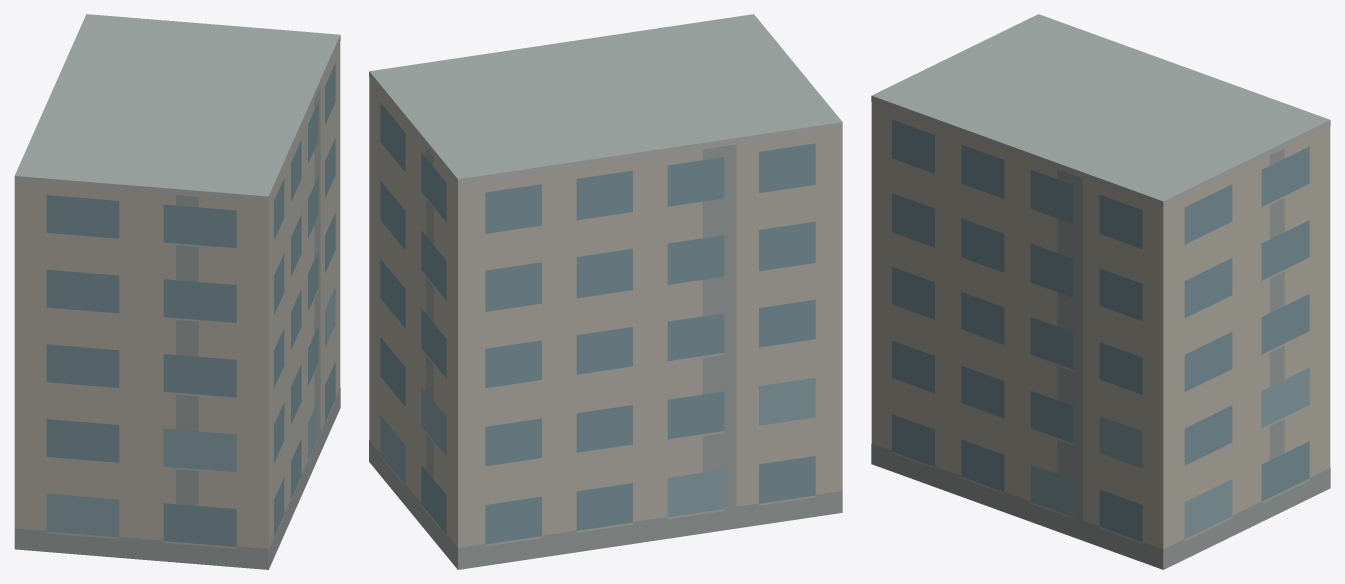
File: survey-upis-32610474.glb
The picture shows the model from 3 angles, left to right: view 1: azimuth 30°, elevation 25°; view 2: azimuth 150°, elevation 25°; view 3: azimuth 270°, elevation 25°; orthographic projection. The views are drawn at different scales.
Visible parts, largest first — view 1: survey-upis-32610474.tmp; view 2: survey-upis-32610474.tmp; view 3: survey-upis-32610474.tmp.
Boxes of the visible parts, bbox=[...] form: survey-upis-32610474.tmp: bbox=[14, 14, 340, 569]; survey-upis-32610474.tmp: bbox=[369, 14, 842, 569]; survey-upis-32610474.tmp: bbox=[871, 14, 1330, 569].
Bounding box in the file's own units: 15.83 × 14.5 × 16.38.
